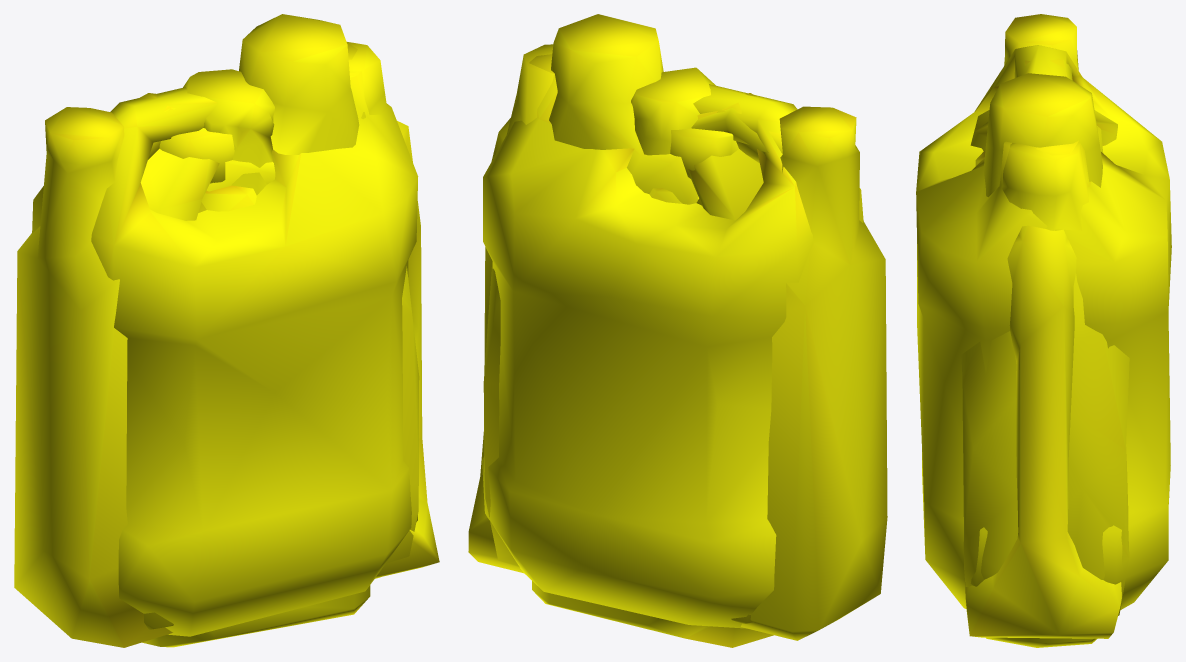
Rendered from junk6.glb.
3 renders of one model, left to right at view 1: azimuth 30°, elevation 25°; view 2: azimuth 150°, elevation 25°; view 3: azimuth 270°, elevation 25°, orthographic. The views are drawn at different scales.
Parts seen in each view (by area): view 1: tlzkdilva_LOD0_TIER3_004, tlzkdilva_LOD0_TIER3_001, tlzkdilva_LOD0_TIER3_003, tlzkdilva_LOD0_TIER3_005, tlzkdilva_LOD0_TIER3_002, tlzkdilva_LOD0_TIER3_000; view 2: tlzkdilva_LOD0_TIER3_004, tlzkdilva_LOD0_TIER3_001, tlzkdilva_LOD0_TIER3_003, tlzkdilva_LOD0_TIER3_005, tlzkdilva_LOD0_TIER3_002, tlzkdilva_LOD0_TIER3_000; view 3: tlzkdilva_LOD0_TIER3_004, tlzkdilva_LOD0_TIER3_001, tlzkdilva_LOD0_TIER3_005, tlzkdilva_LOD0_TIER3_003.
Boxes of the visible parts, box(x1,y1,x2,y2) form: tlzkdilva_LOD0_TIER3_004: box(32, 42, 418, 636); tlzkdilva_LOD0_TIER3_001: box(14, 107, 439, 647); tlzkdilva_LOD0_TIER3_003: box(142, 14, 370, 647); tlzkdilva_LOD0_TIER3_005: box(138, 42, 419, 629); tlzkdilva_LOD0_TIER3_002: box(183, 69, 274, 195); tlzkdilva_LOD0_TIER3_000: box(159, 131, 256, 211); tlzkdilva_LOD0_TIER3_004: box(482, 54, 863, 628); tlzkdilva_LOD0_TIER3_001: box(468, 106, 887, 640); tlzkdilva_LOD0_TIER3_003: box(532, 14, 773, 647); tlzkdilva_LOD0_TIER3_005: box(483, 44, 782, 623); tlzkdilva_LOD0_TIER3_002: box(631, 67, 715, 155); tlzkdilva_LOD0_TIER3_000: box(649, 128, 738, 203); tlzkdilva_LOD0_TIER3_004: box(916, 45, 1171, 609); tlzkdilva_LOD0_TIER3_001: box(965, 14, 1121, 638); tlzkdilva_LOD0_TIER3_005: box(961, 59, 1129, 615); tlzkdilva_LOD0_TIER3_003: box(983, 73, 1102, 647).
Bounding box in the file's own units: 0.1706 × 0.2499 × 0.1084.
Materials: 1 (1 with a texture image).
